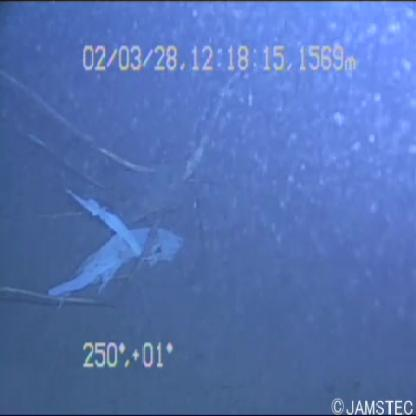Rác: (26, 168, 198, 324)
